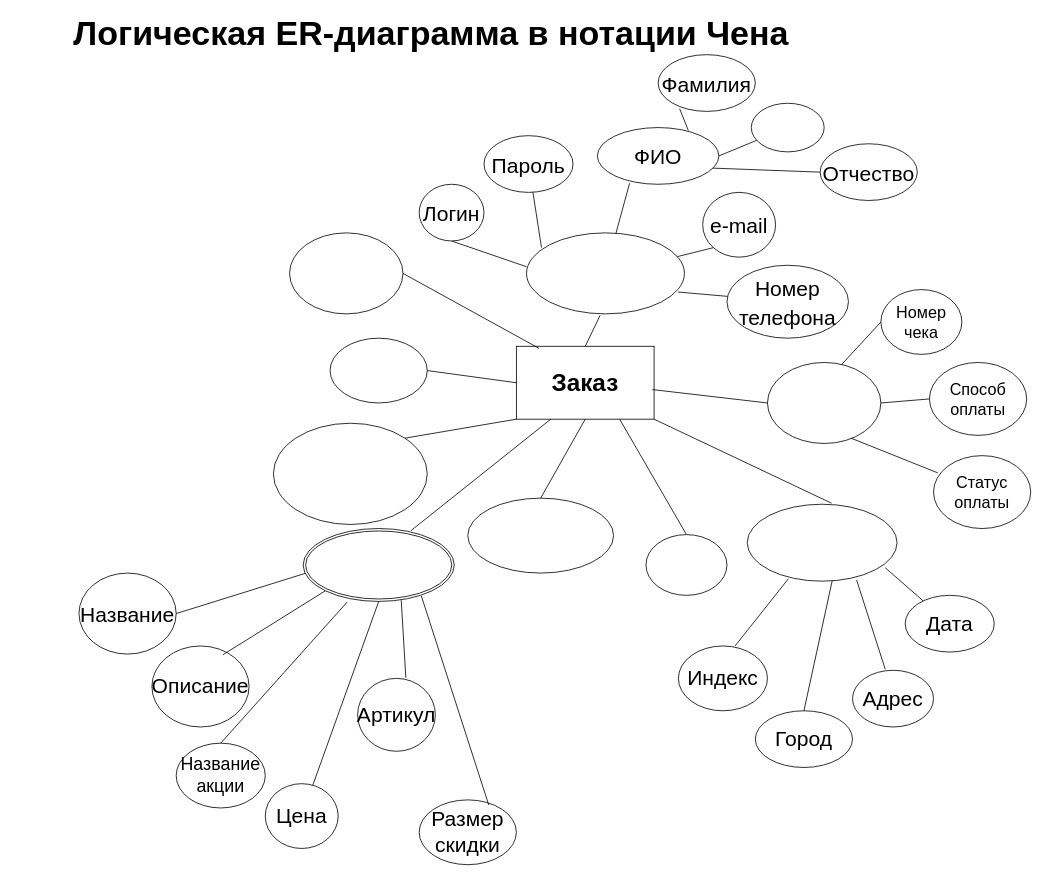
The diagram is 1045 pixels wide and 879 high, and some of its shapes have lost their labels. The shapes that lost their labels are listed below. From the top down, each one's centre as x and y in pixels, then its label:
(x=787, y=127): Имя
(x=346, y=273): Товары в заказе
(x=605, y=273): Пользователь
(x=378, y=370): Статус
(x=824, y=402): Данные об оплате
(x=350, y=473): Дата создания заказа
(x=540, y=535): Номер заказа
(x=821, y=542): Данные о доставке
(x=378, y=564): Товар
(x=686, y=564): Сумма
